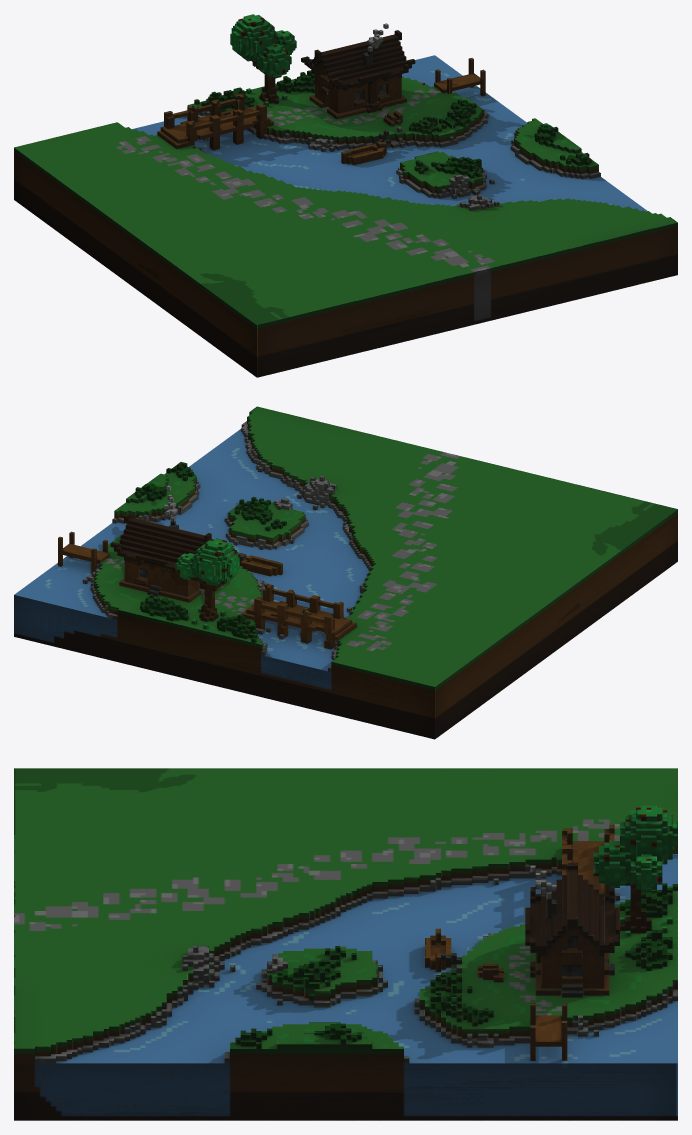
3 views of the same model, one above another, from view 1: azimuth 30°, elevation 25°; view 2: azimuth 150°, elevation 25°; view 3: azimuth 270°, elevation 25° (orthographic). The views are drawn at different scales.
Visible parts, largest first — view 1: _D; view 2: _D; view 3: _D.
Part boxes in pixels (<box>): _D: <box>14,14,677,377</box>; _D: <box>14,406,677,739</box>; _D: <box>14,768,677,1120</box>.
Size of the model in its own units: 126 by 126 by 39.
Materials: 1 (1 with a texture image).
